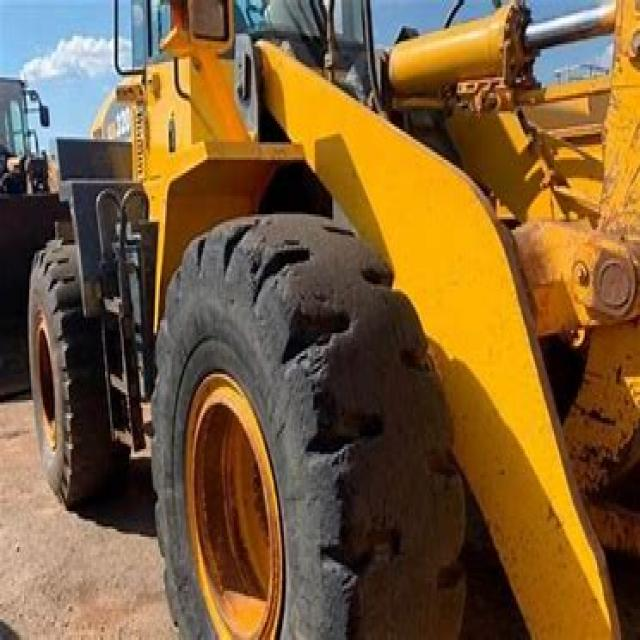buldozerpayloadergrader: (21, 8, 634, 637)
